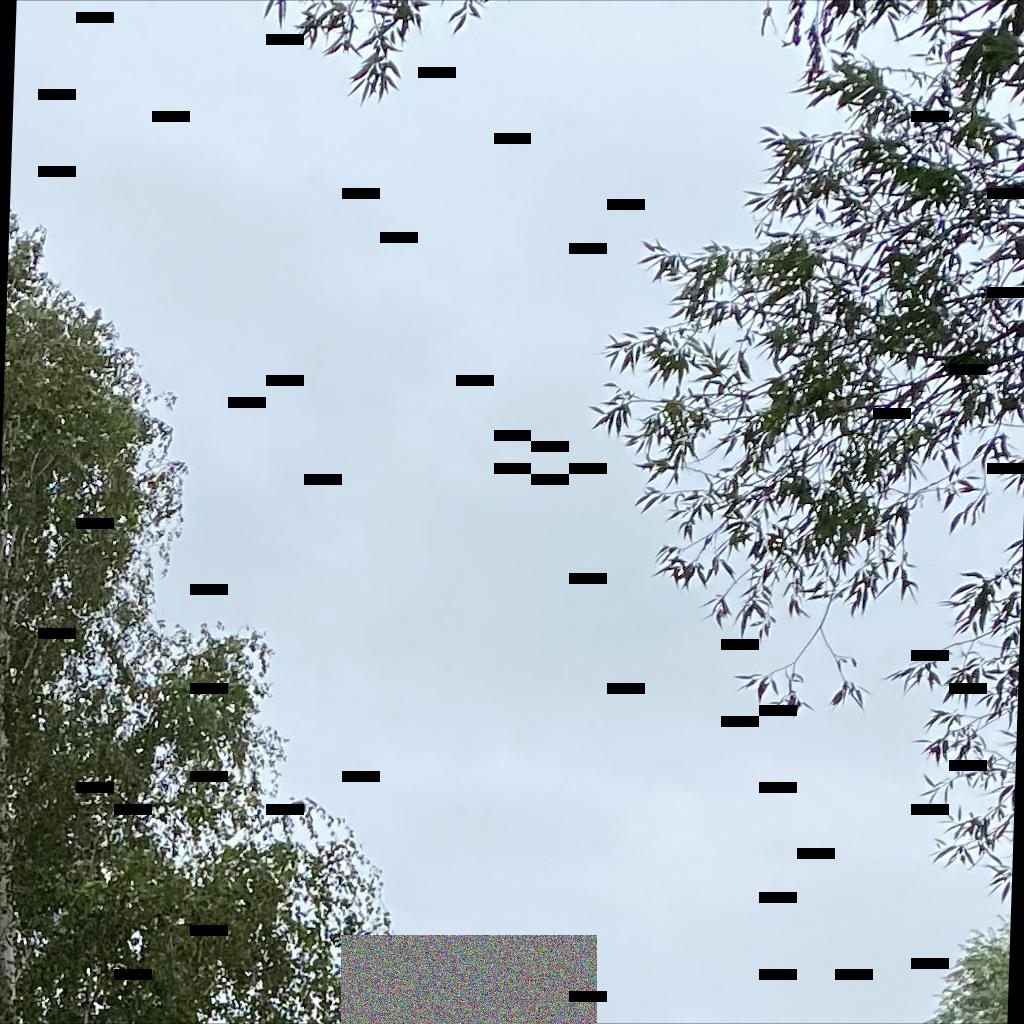tree: (264, 1, 1024, 905), (1, 208, 393, 1023), (923, 915, 1010, 1024)
